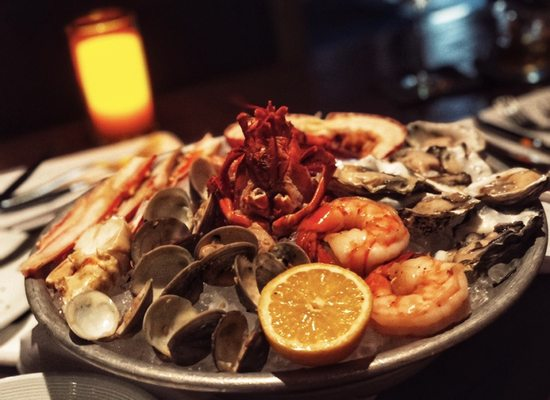taco: (257, 262, 372, 367), (368, 253, 472, 338)
